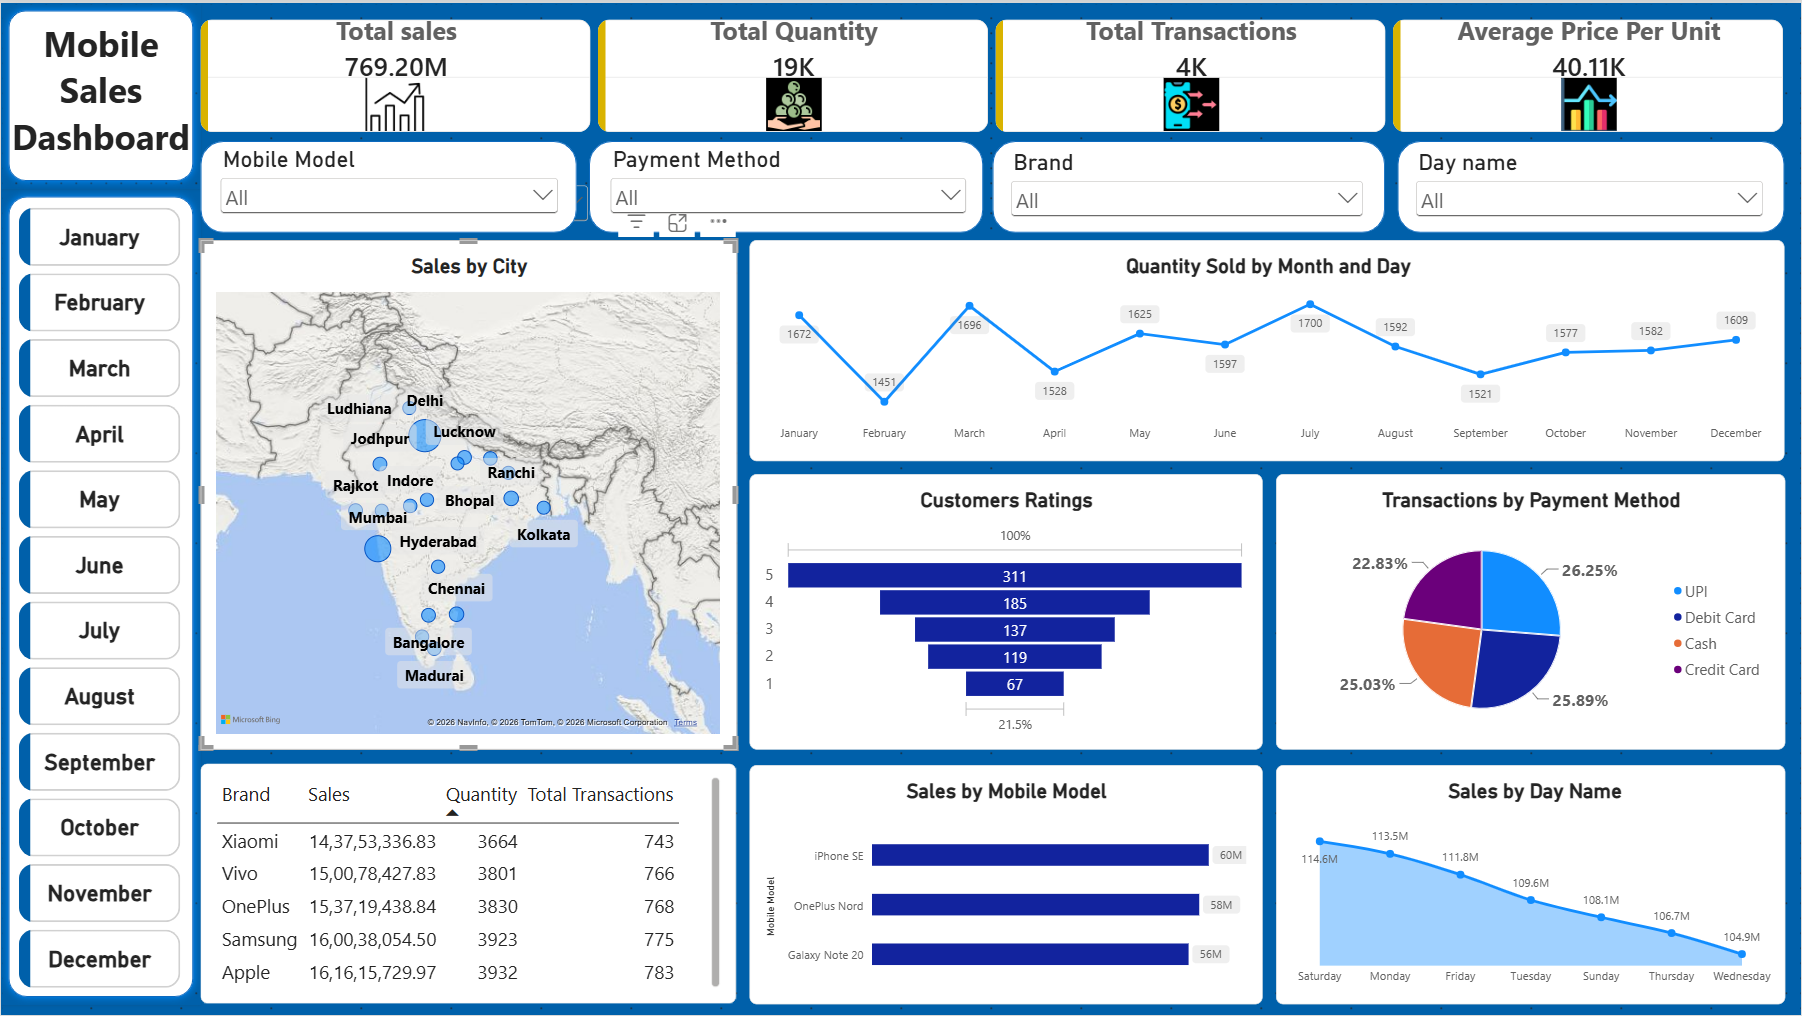

Layout of this report page (visuals, bound fields, positions):
{"tool":"powerbi","page":{"name":"Page 1","canvas":[1920,1080],"ordinal":0},"visuals":[{"type":"shape","box":[627.8,147.8,420.5,97.9],"z":0},{"type":"shape","box":[0,0,213.1,197.8],"z":1000},{"type":"shape","box":[0,197.8,213.1,869.8],"z":2000},{"type":"advancedSlicerVisual","fields":{"Values":["Sales_Data.Date.Variation.Date Hierarchy.Month"]},"box":[19.2,197.8,172.8,883.2],"z":4000},{"type":"cardVisual","fields":{"Data":["Sales_Data.Total sales","Sales_Data.Total Quantity","Sales_Data.Transactions","Sales_Data.Average"]},"box":[213.1,17.3,1689.6,121],"z":5000},{"type":"map","title":"Sales by City","fields":{"Category":["Sales_Data.City"],"Size":["Sales_Data.Total sales"]},"box":[213.1,253.4,572.2,543.4],"z":6000},{"type":"lineChart","title":"Quantity Sold by Month and Day","fields":{"Category":["Sales_Data.Date.Variation.Date Hierarchy.Month","Sales_Data.Date.Variation.Date Hierarchy.Day"],"Y":["Sales_Data.Total Quantity"]},"box":[798.7,253.4,1104,236.2],"z":7000},{"type":"clusteredBarChart","title":"Sales by Mobile Model","fields":{"Category":["Sales_Data.Mobile Model"],"Y":["Sales_Data.Total sales"]},"box":[798.7,812.2,547.2,255.4],"z":8000},{"type":"pieChart","title":"Transactions by Payment Method","fields":{"Category":["Sales_Data.Payment Method"],"Y":["Sales_Data.Transactions"]},"box":[1359.4,503,543.4,293.8],"z":9000},{"type":"funnel","title":"Customers Ratings","fields":{"Category":["Sales_Data.Customer Ratings"],"Y":["CountNonNull(Sales_Data.Customer Ratings)"]},"box":[798.7,503,547.2,293.8],"z":10000},{"type":"areaChart","title":"Sales by Day Name","fields":{"Category":["Sales_Data.Day name"],"Y":["Sales_Data.Total sales"]},"box":[1359.4,812.2,543.4,255.4],"z":11000},{"type":"tableEx","fields":{"Values":["Sales_Data.Brand","Sales_Data.Total sales","Sales_Data.Total Quantity","Sales_Data.Transactions"]},"box":[213.5,811.5,571.2,255.8],"z":12000},{"type":"slicer","fields":{"Values":["Sales_Data.Payment Method"]},"box":[645.1,151.7,389.8,94.1],"z":13000},{"type":"slicer","fields":{"Values":["Sales_Data.Payment Method"]},"box":[213.1,159.4,418.6,94.1],"z":14000},{"type":"shape","box":[1489.9,147.8,412.8,97.9],"z":15000},{"type":"slicer","fields":{"Values":["Sales_Data.Day name"]},"box":[1503.4,155.5,380.2,90.2],"z":16000},{"type":"shape","box":[213.1,147.8,401.3,97.9],"z":17000},{"type":"shape","box":[1057.9,147.8,418.6,97.9],"z":18000},{"type":"slicer","fields":{"Values":["Sales_Data.Brand"]},"box":[1071.4,155.5,385.9,90.2],"z":19000},{"type":"slicer","fields":{"Values":["Sales_Data.Mobile Model"]},"box":[228.5,151.7,370.6,94.1],"z":20000},{"type":"textbox","box":[0,17.3,213.1,165.1],"z":20001}]}

Visuals, with their boxes in screenshot pixels (x1, y1, x2, y2), scaled from the page's 1920x1080 canvas onto the 1802x1016 screenshot:
shape: x1=589, y1=139, x2=984, y2=231
shape: x1=0, y1=0, x2=200, y2=186
shape: x1=0, y1=186, x2=200, y2=1004
advancedSlicerVisual - Sales_Data.Date.Variation.Date Hierarchy.Month: x1=18, y1=186, x2=180, y2=1015
cardVisual - Sales_Data.Total sales x Sales_Data.Total Quantity: x1=200, y1=16, x2=1786, y2=130
"Sales by City" map: x1=200, y1=238, x2=737, y2=750
"Quantity Sold by Month and Day" lineChart: x1=750, y1=238, x2=1786, y2=461
"Sales by Mobile Model" clusteredBarChart: x1=750, y1=764, x2=1263, y2=1004
"Transactions by Payment Method" pieChart: x1=1276, y1=473, x2=1786, y2=750
"Customers Ratings" funnel: x1=750, y1=473, x2=1263, y2=750
"Sales by Day Name" areaChart: x1=1276, y1=764, x2=1786, y2=1004
tableEx - Sales_Data.Brand x Sales_Data.Total sales: x1=200, y1=763, x2=736, y2=1004
slicer - Sales_Data.Payment Method: x1=605, y1=143, x2=971, y2=231
slicer - Sales_Data.Payment Method: x1=200, y1=150, x2=593, y2=238
shape: x1=1398, y1=139, x2=1786, y2=231
slicer - Sales_Data.Day name: x1=1411, y1=146, x2=1768, y2=231
shape: x1=200, y1=139, x2=577, y2=231
shape: x1=993, y1=139, x2=1386, y2=231
slicer - Sales_Data.Brand: x1=1006, y1=146, x2=1368, y2=231
slicer - Sales_Data.Mobile Model: x1=214, y1=143, x2=562, y2=231
textbox: x1=0, y1=16, x2=200, y2=172
